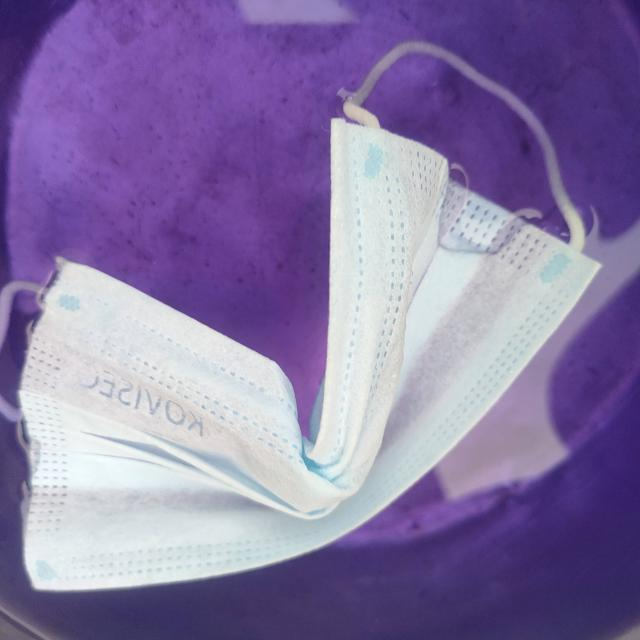litter: (2, 42, 604, 600)
